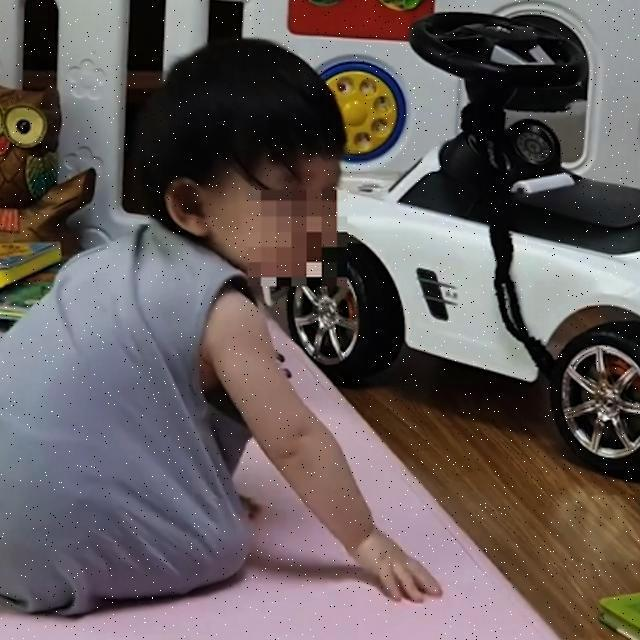child: (0, 38, 442, 615)
